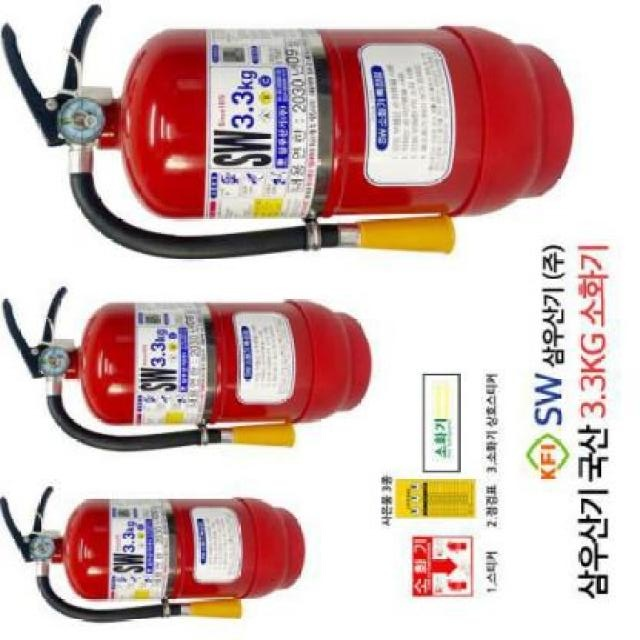fire extinguisher: (1, 3, 574, 262), (1, 286, 374, 454), (0, 485, 306, 624)
